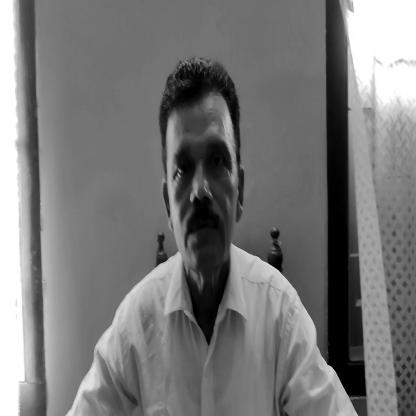Normal: (166, 74, 248, 270)
